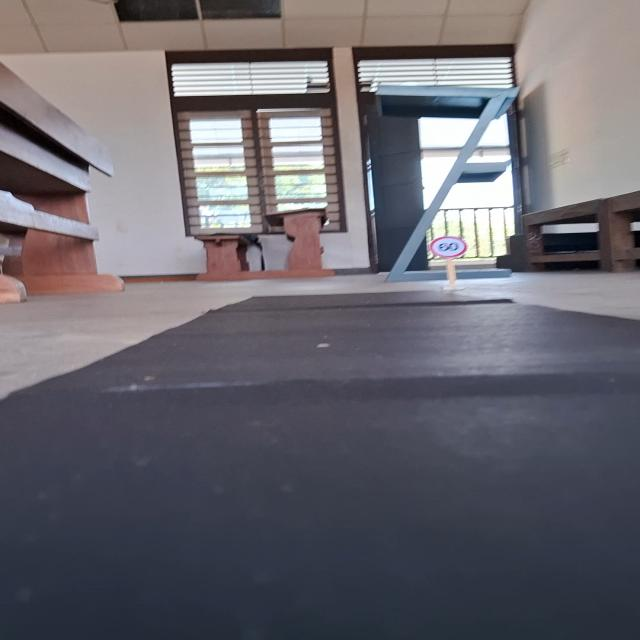Speed60: (424, 235, 470, 260)
